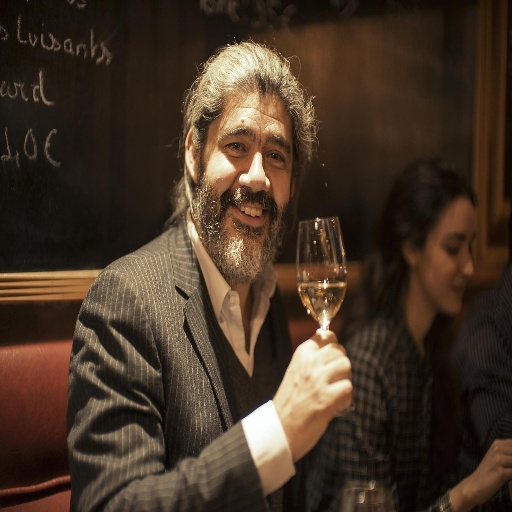hand: (274, 331, 360, 447), (470, 437, 511, 505)
